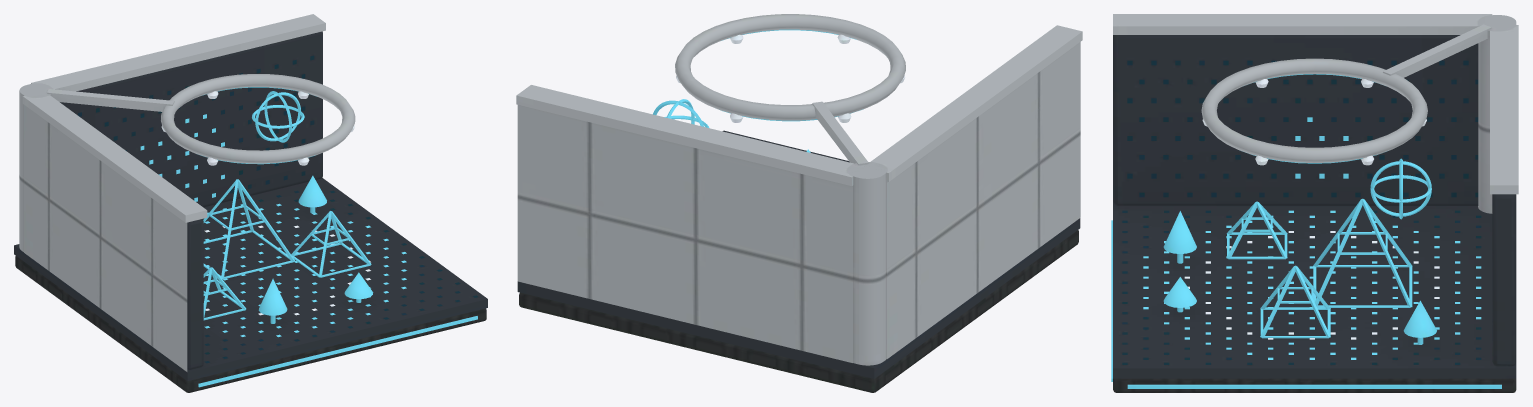
Rendered from enterprise_holodeck.glb.
The picture shows the model from 3 angles, left to right: view 1: azimuth 30°, elevation 25°; view 2: azimuth 150°, elevation 25°; view 3: azimuth 270°, elevation 25°; orthographic projection. The views are drawn at different scales.
Parts seen in each view (by area): view 1: te_enterprise_holodeck, move_sensor; view 2: te_enterprise_holodeck, move_sensor; view 3: te_enterprise_holodeck, move_sensor.
Part boxes in pixels (x1,y1,x2,y2): te_enterprise_holodeck: [14, 14, 487, 392]; move_sensor: [252, 91, 304, 142]; te_enterprise_holodeck: [516, 14, 1082, 392]; move_sensor: [653, 99, 709, 128]; te_enterprise_holodeck: [1111, 14, 1518, 392]; move_sensor: [1370, 158, 1431, 219].
Bounding box in the file's own units: 0.849 × 0.483 × 0.849.
Materials: 1 (1 with a texture image).
